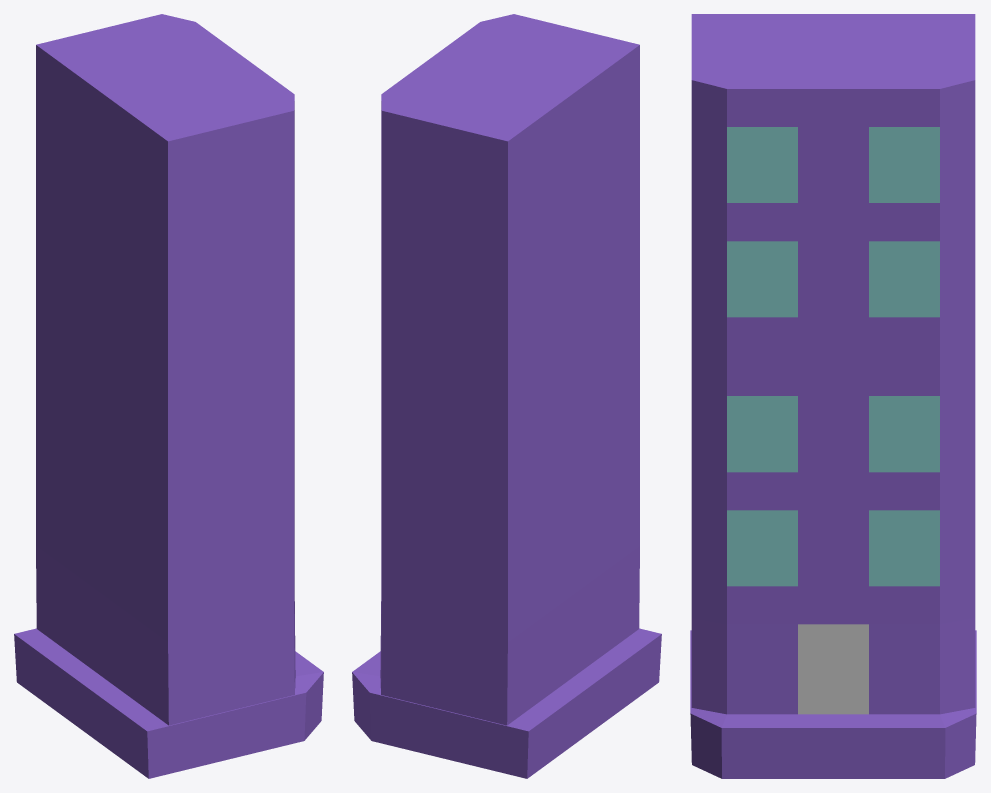
File: building00.fbx
The picture shows the model from 3 angles, left to right: view 1: azimuth 30°, elevation 25°; view 2: azimuth 150°, elevation 25°; view 3: azimuth 270°, elevation 25°; orthographic projection. The views are drawn at different scales.
Visible parts, largest first — view 1: Cube; view 2: Cube; view 3: Cube.
Part boxes in pixels (x1,y1,x2,y2): Cube: (14,14,323,778); Cube: (352,14,661,778); Cube: (690,14,976,778).
Bounding box in the file's own units: 129 × 407 × 155.
